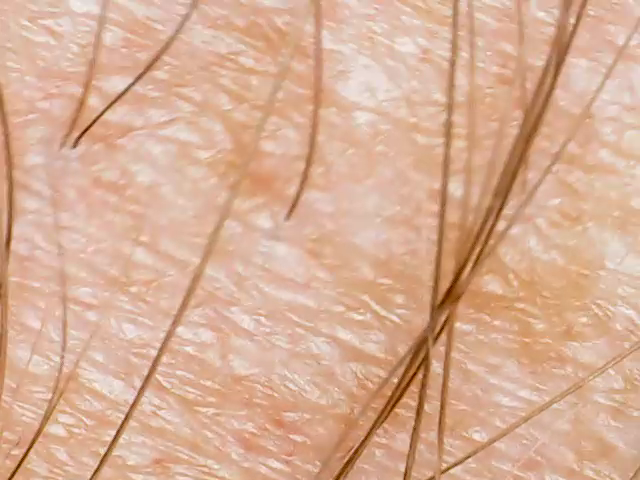folicle: (45, 134, 76, 161), (274, 207, 302, 230), (65, 136, 86, 160)
